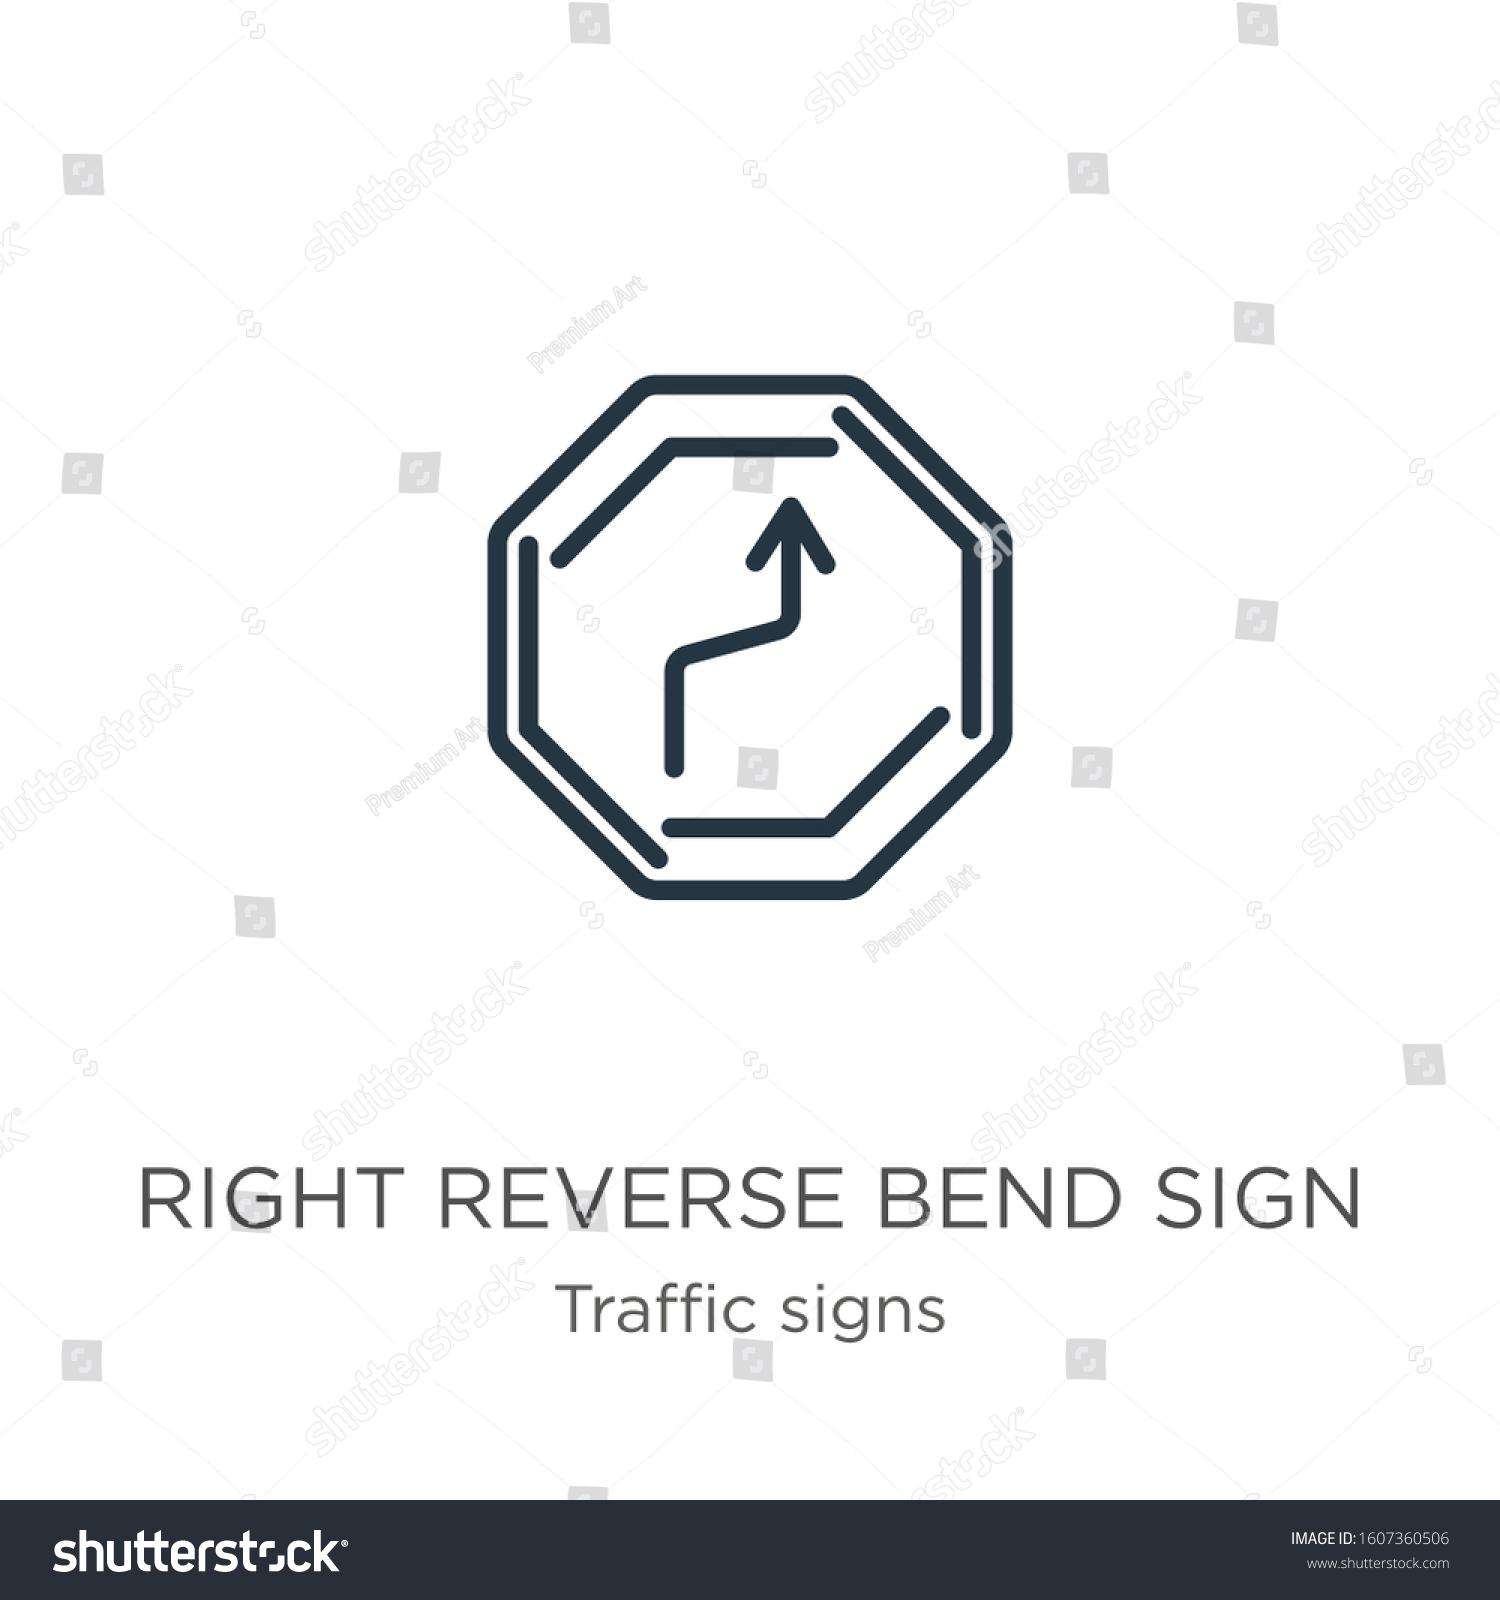Right Reverse Bend: (424, 247, 1062, 925)
